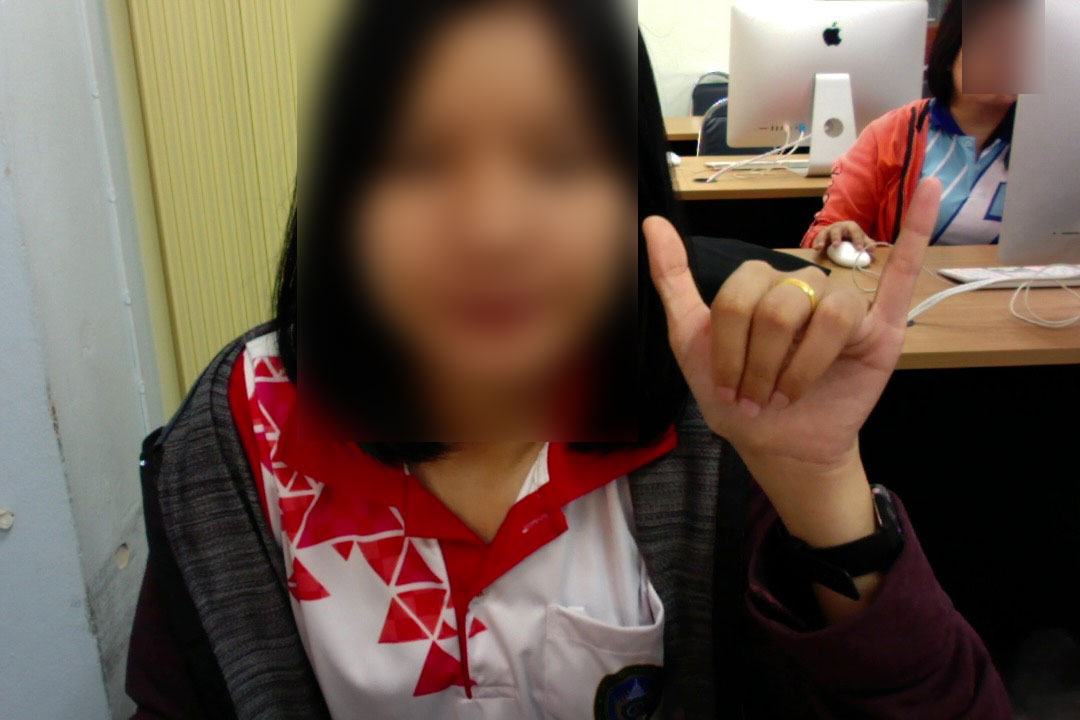yor: (638, 172, 957, 479)
